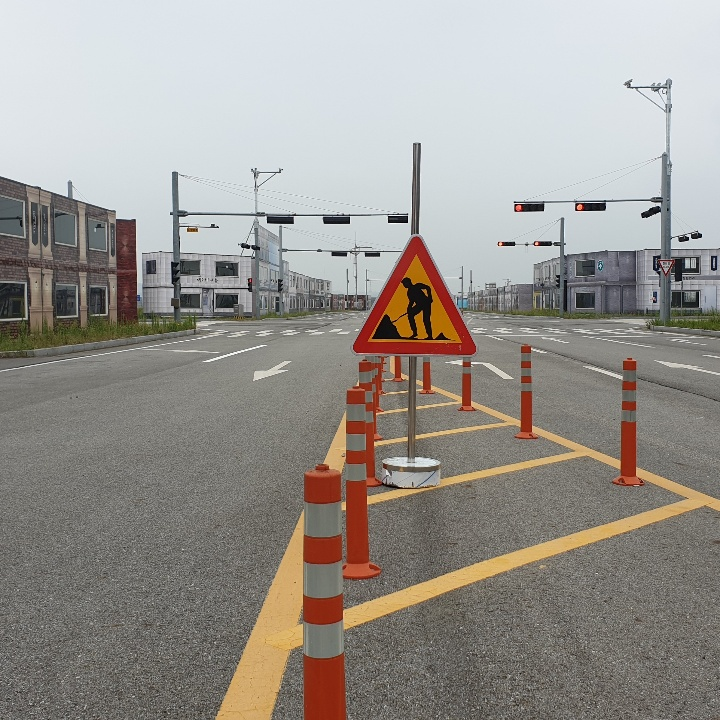const: (367, 262, 458, 347)
